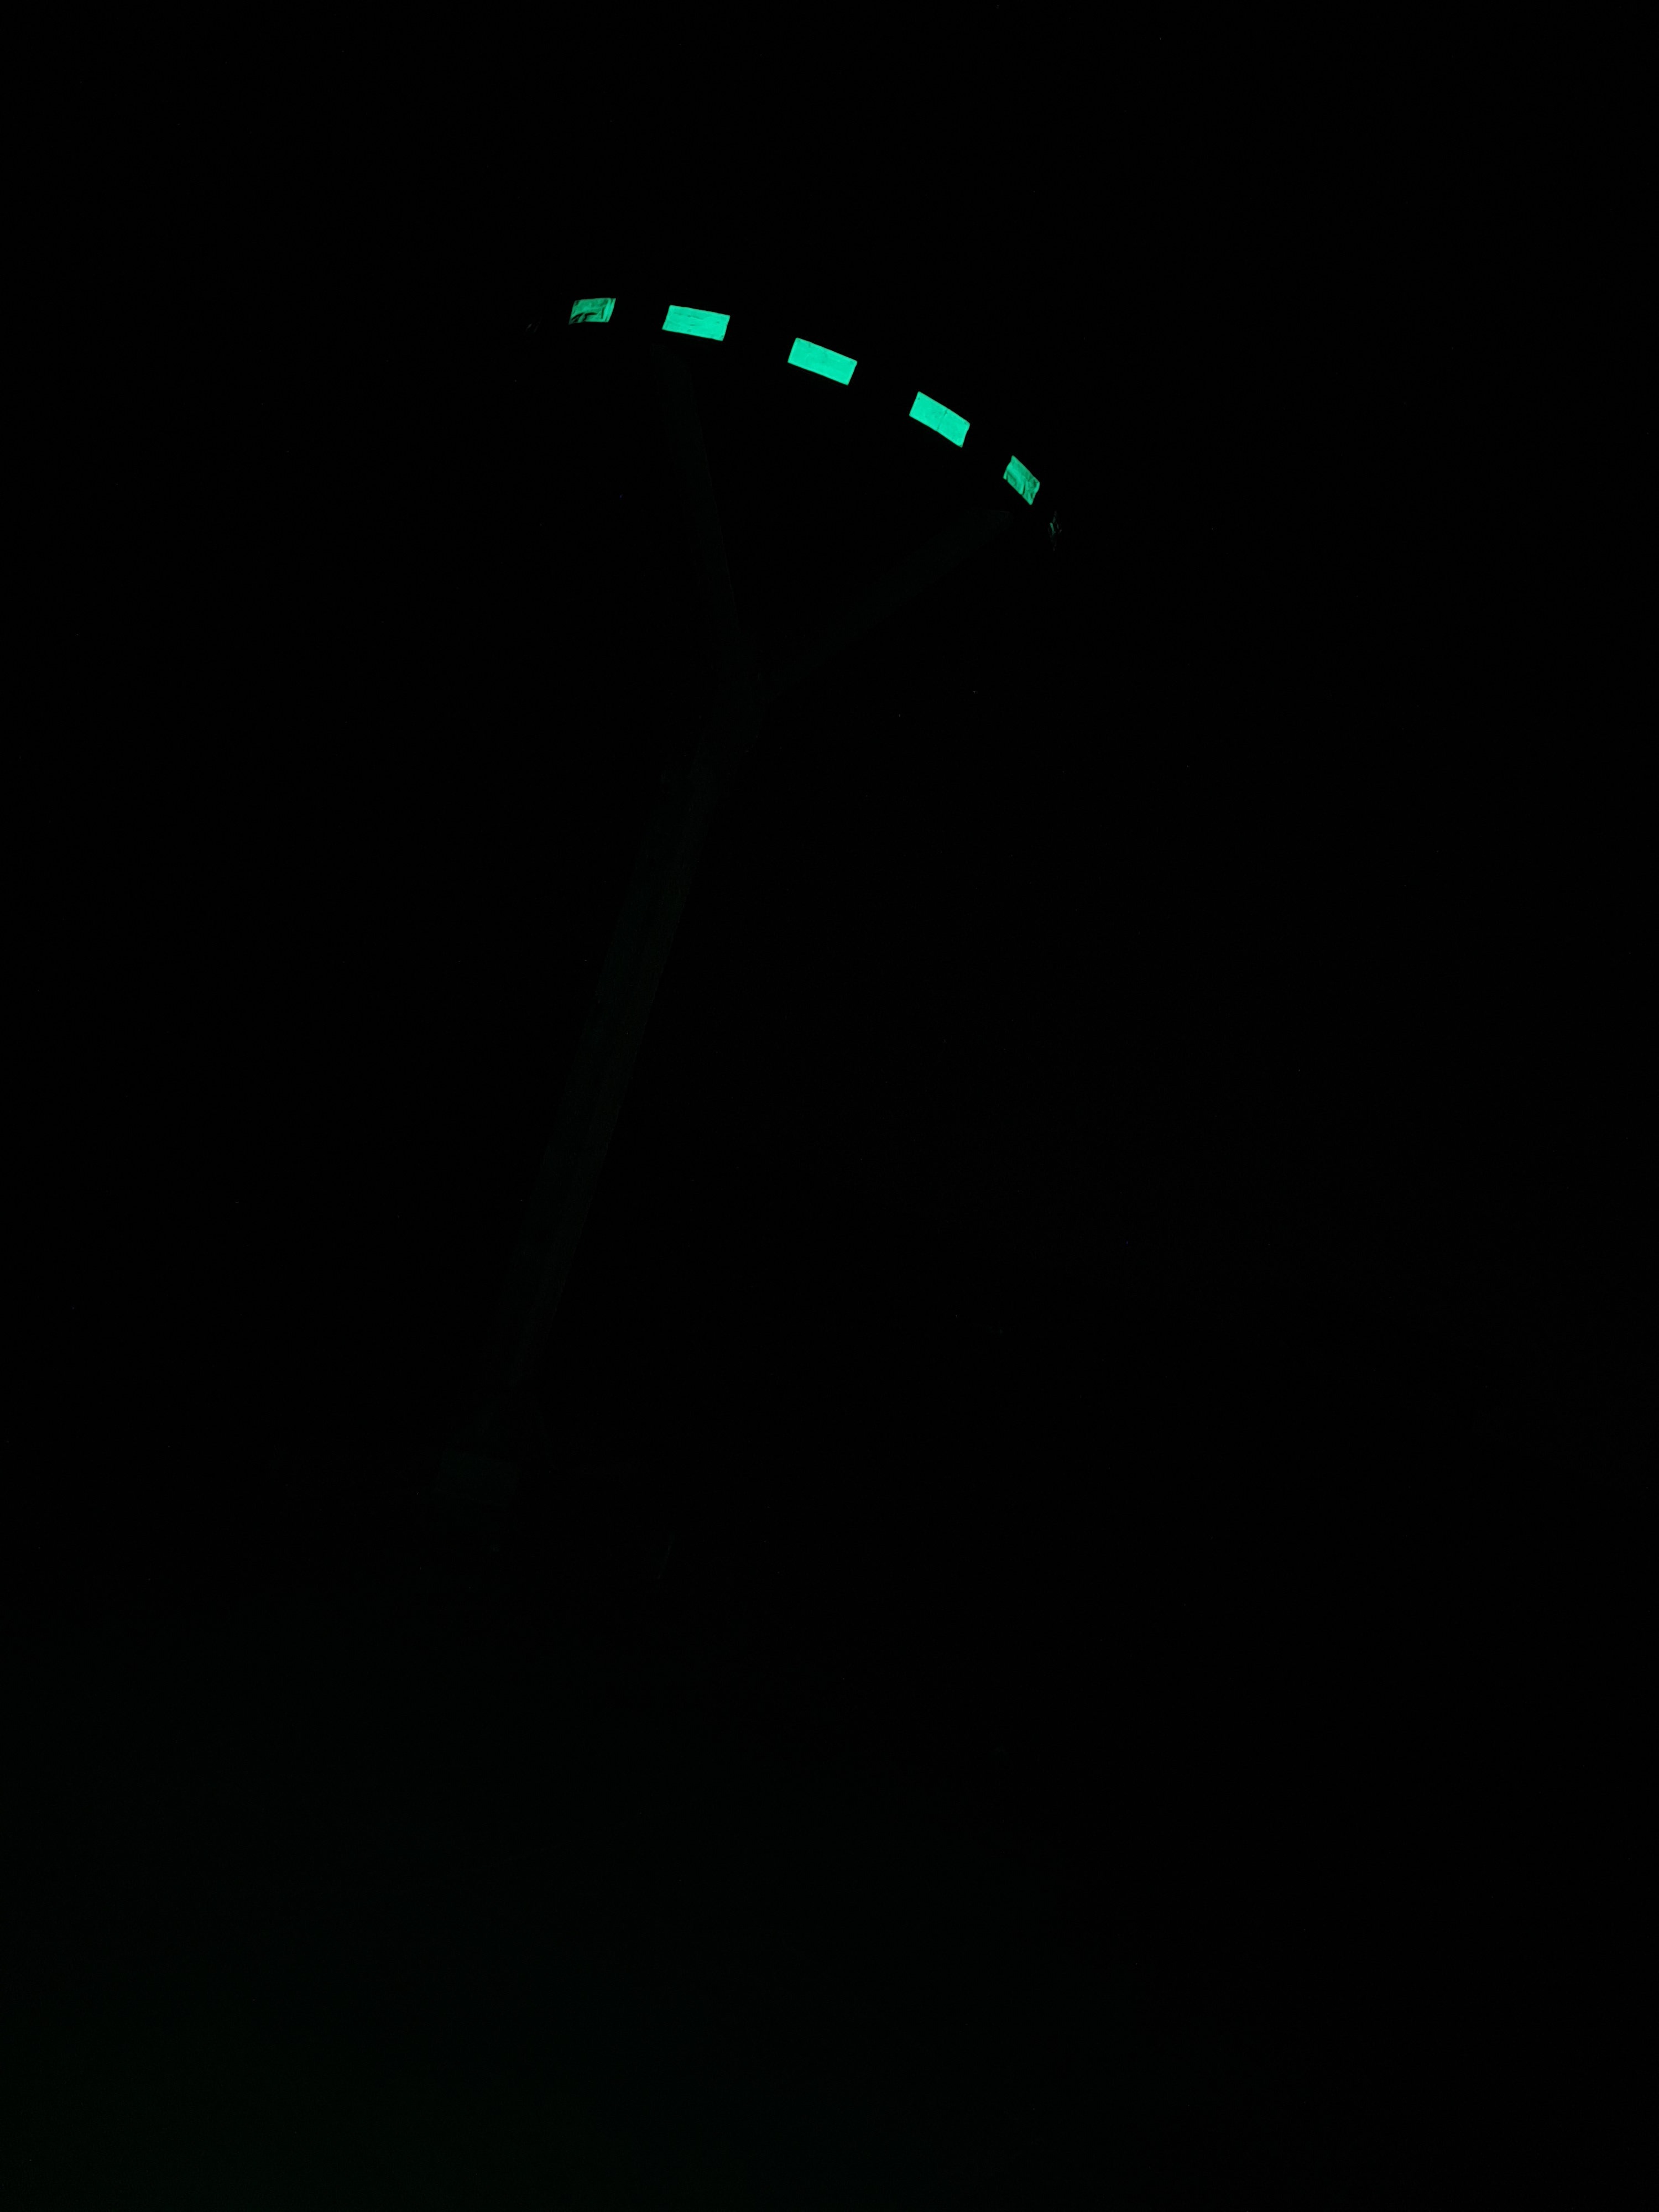hoop: (568, 289, 1044, 507)
